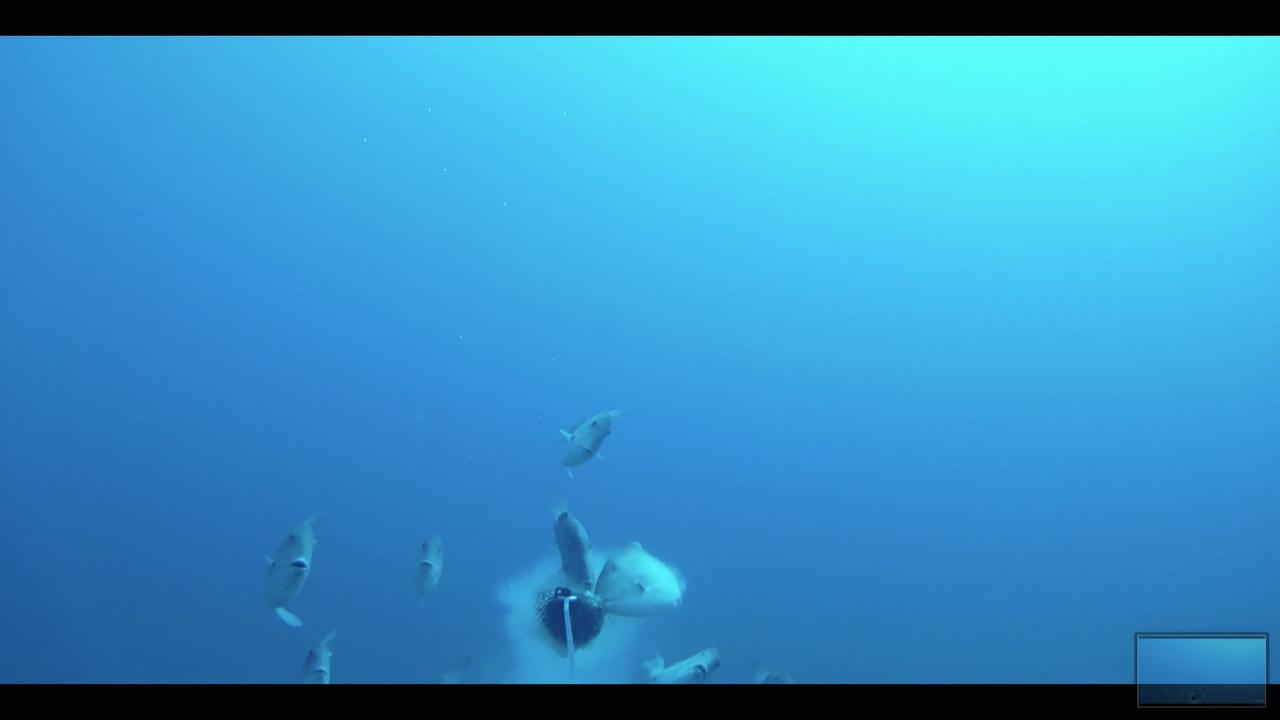balistes: (597, 534, 688, 617), (259, 508, 321, 629), (553, 400, 624, 483), (542, 498, 601, 590), (633, 638, 721, 680), (409, 525, 446, 611), (303, 620, 343, 681)
